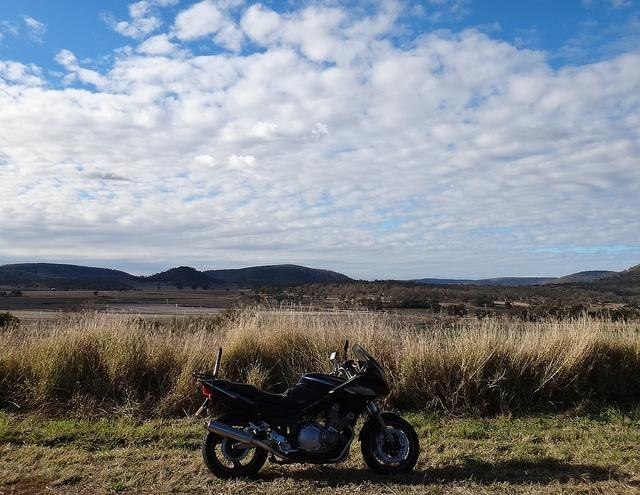motorcycle: (198, 337, 423, 478)
